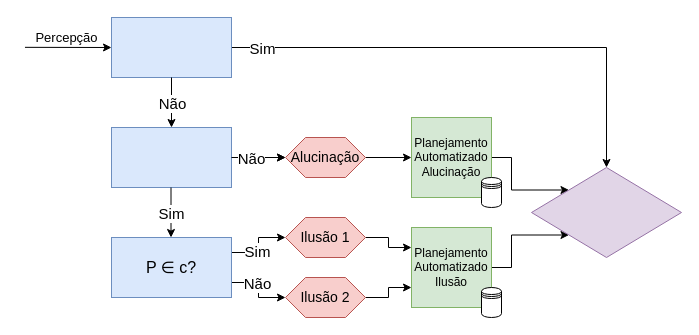
The diagram is 699 pixels wide and 335 high, and some of its shapes have lost their labels. The centre of each missing label's shape, as x and y in pixels:
Cognição do Agente: pixel 606 212
P | x ∈ c?: pixel 171 157
P(x) ∈ c?: pixel 171 47
